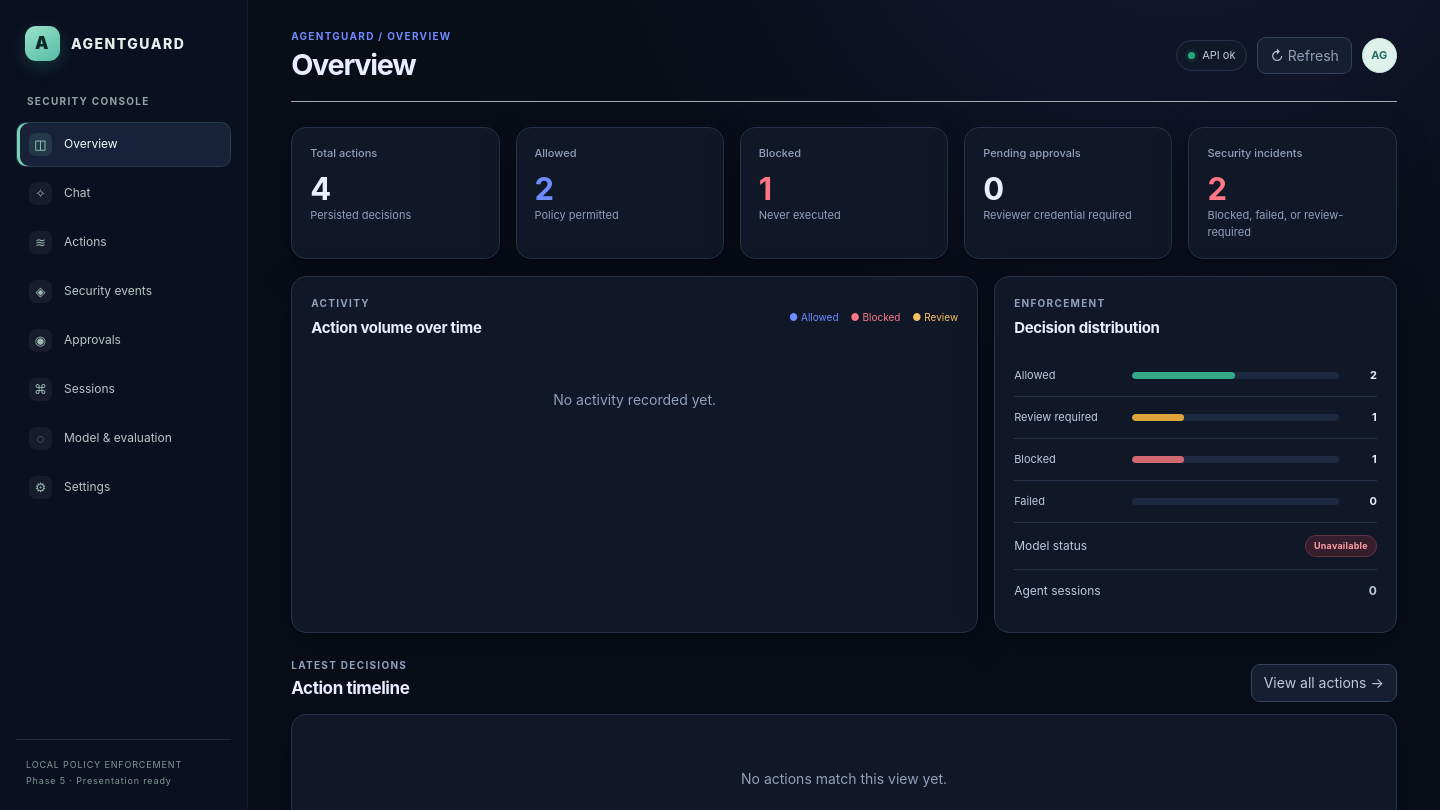
renders metrics from the real API response and honest missing-model state
Expected: the text "4" is shown, [310,170,330,207]
Click the button "◌ Model & evaluation".
click(124, 438)  # box [16,416,231,460]
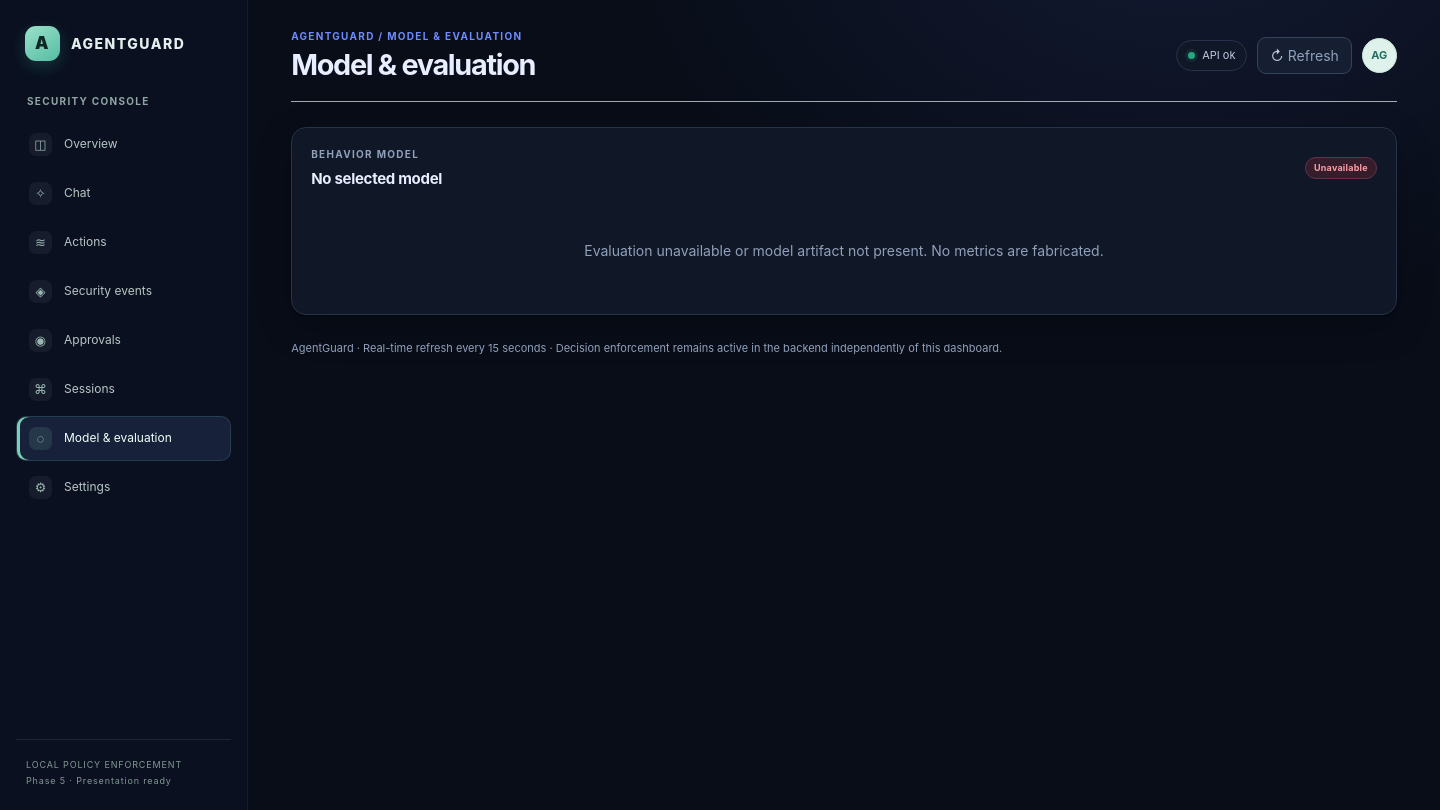
Expected: the text "Evaluation unavailable or model artifact not present" is shown, [584,242,1104,259]
